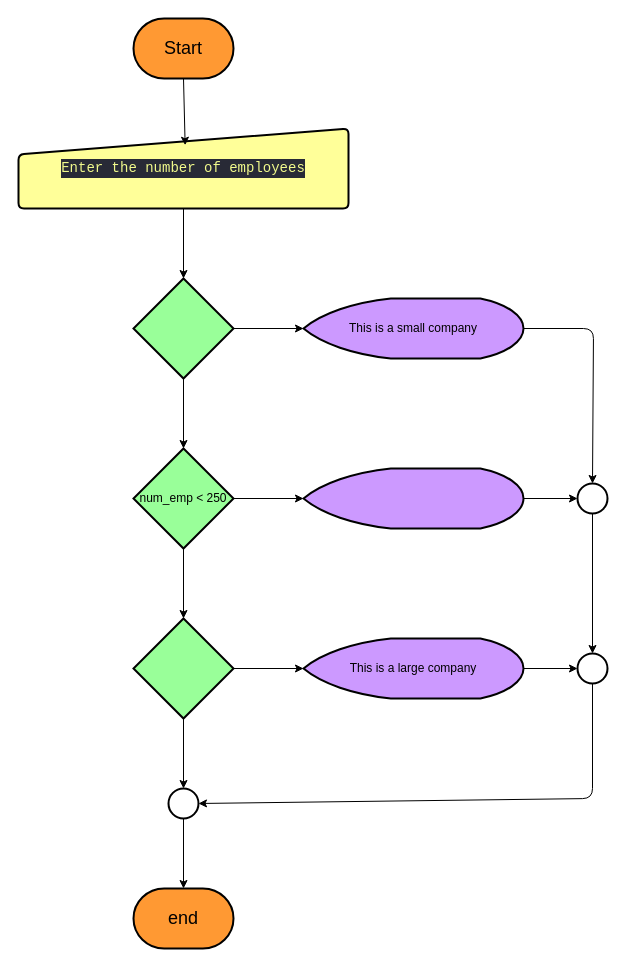
The diagram is 625 pixels wide and 966 high, and some of its shapes have lost their labels. Here are the shapes that lost their labels. From the top down, the centre of each, then its label:
point 183,328: num_emp < 50
point 413,498: This is a medium company
point 183,668: num_emp >= 250
